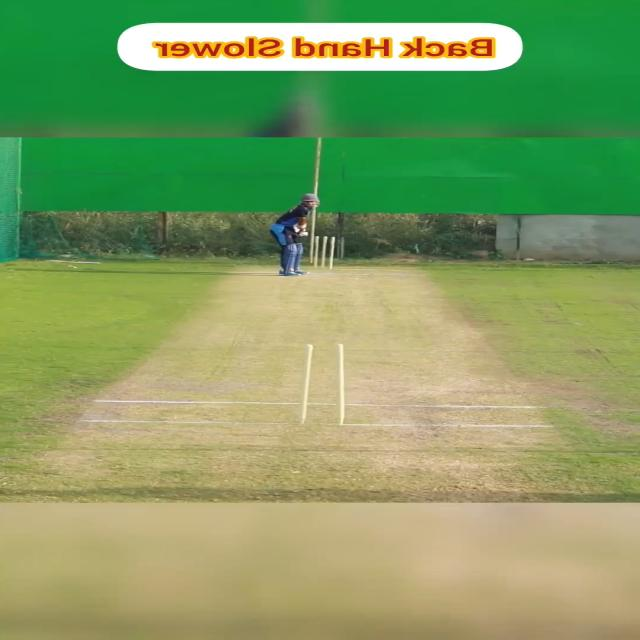stump: (296, 343, 348, 425), (312, 236, 337, 270)
